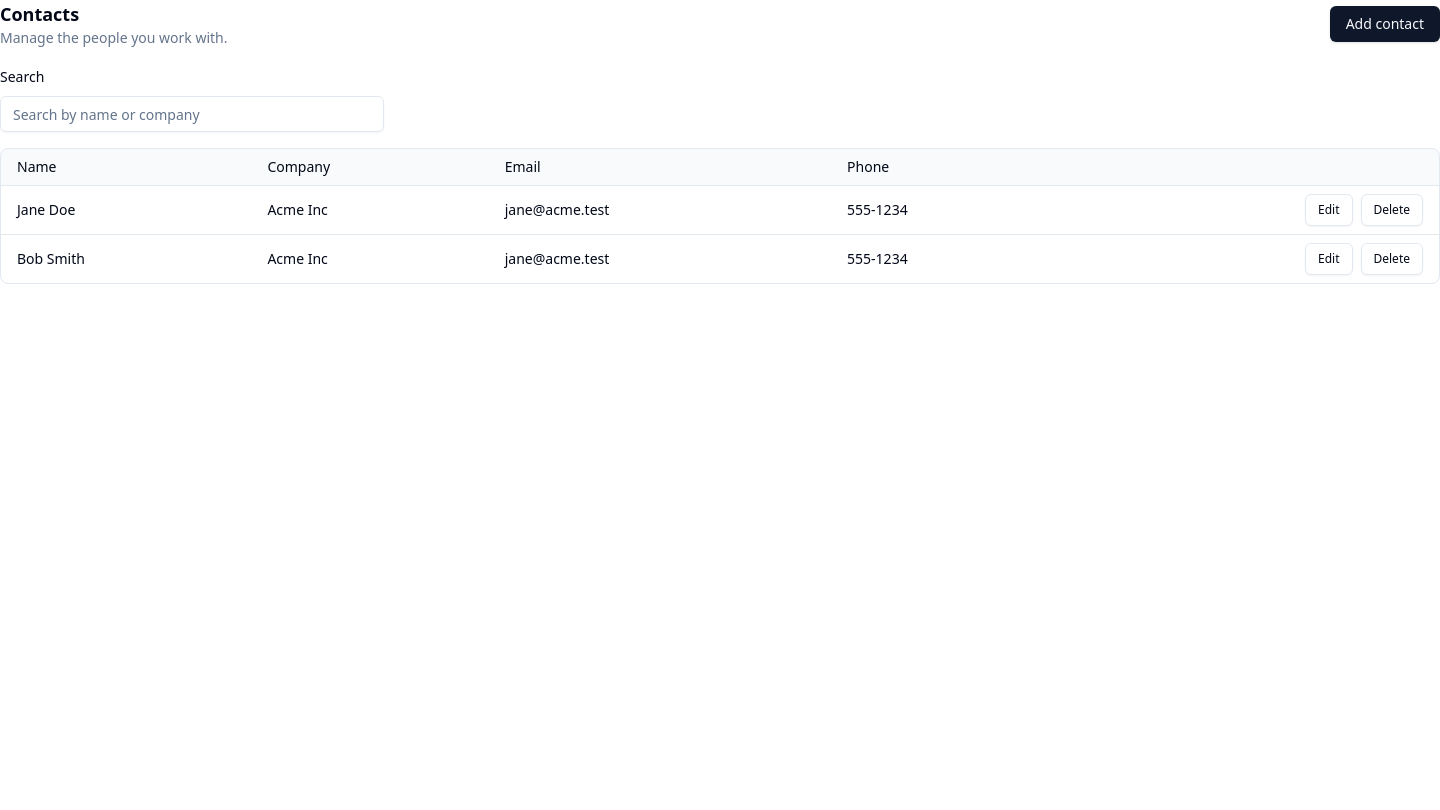
it: ContactsPage › shows a contact's linked deals and tasks in its detail view
Click the button "Jane Doe": x=46, y=210 [17, 200, 76, 220]
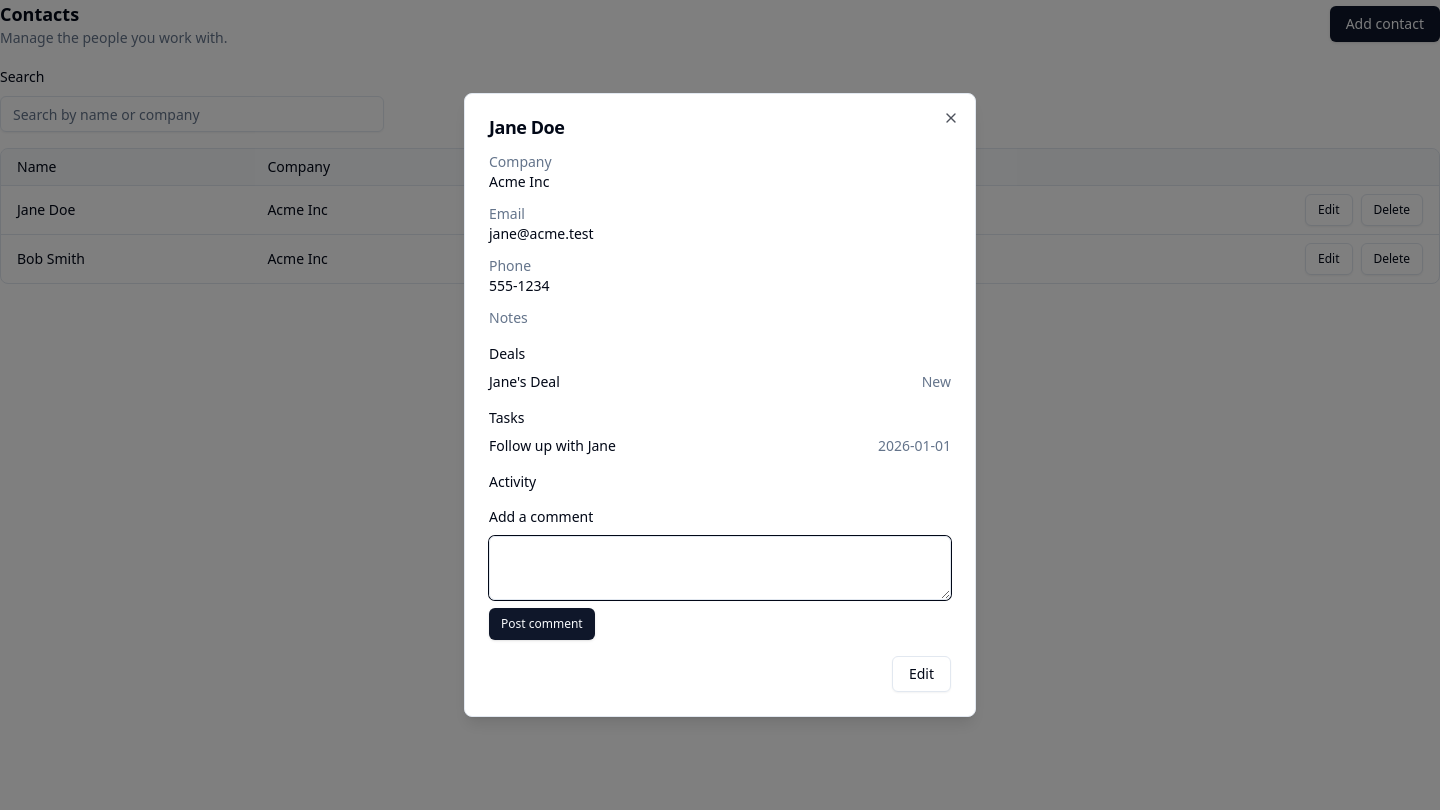
Now the text "Jane's Deal" is shown, box [489, 372, 560, 392]
Now the text "Follow up with Jane" is shown, box [489, 436, 616, 456]
